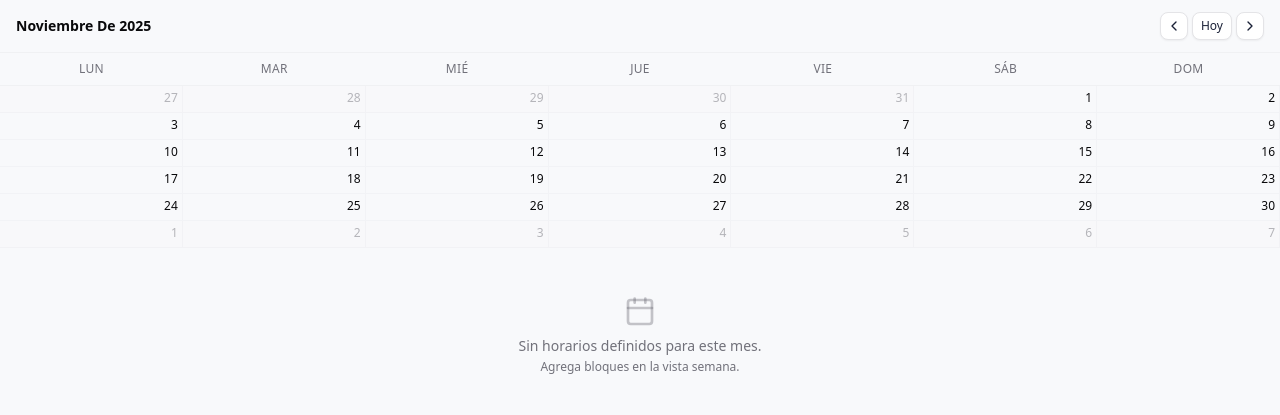
Scenario: MonthCalendar — navigation › clicking hoy resets to current month
# Navigate away first
Step 1. Click the button with test id "month-nav-next" → (1250, 26), box x1=1236 y1=12 x2=1264 y2=40
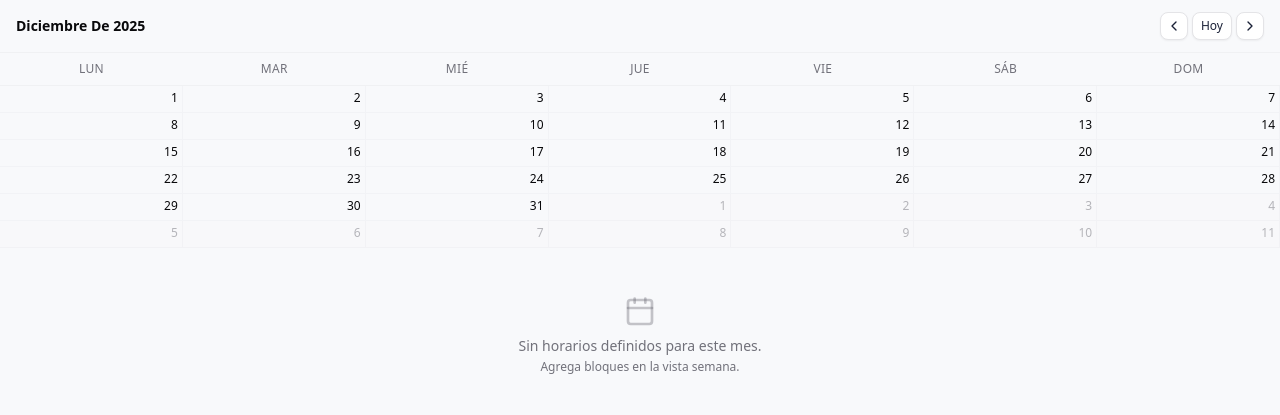
# Now click hoy
Step 2. Click the button with test id "month-nav-hoy" → (1212, 26), box x1=1192 y1=12 x2=1232 y2=40
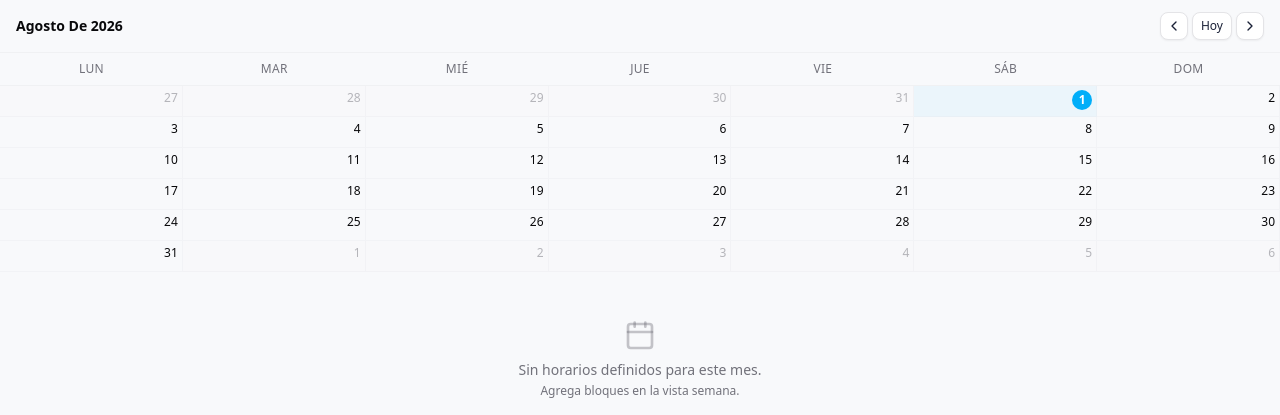
Now the text with test id "month-label" shows "2026", box x1=16 y1=16 x2=123 y2=35
